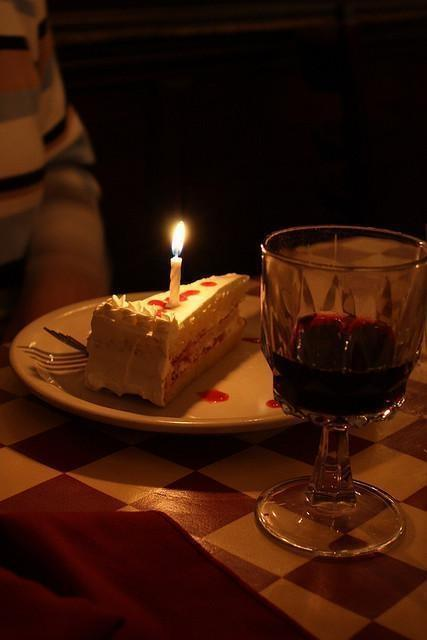glass-wine: (258, 225, 426, 560)
